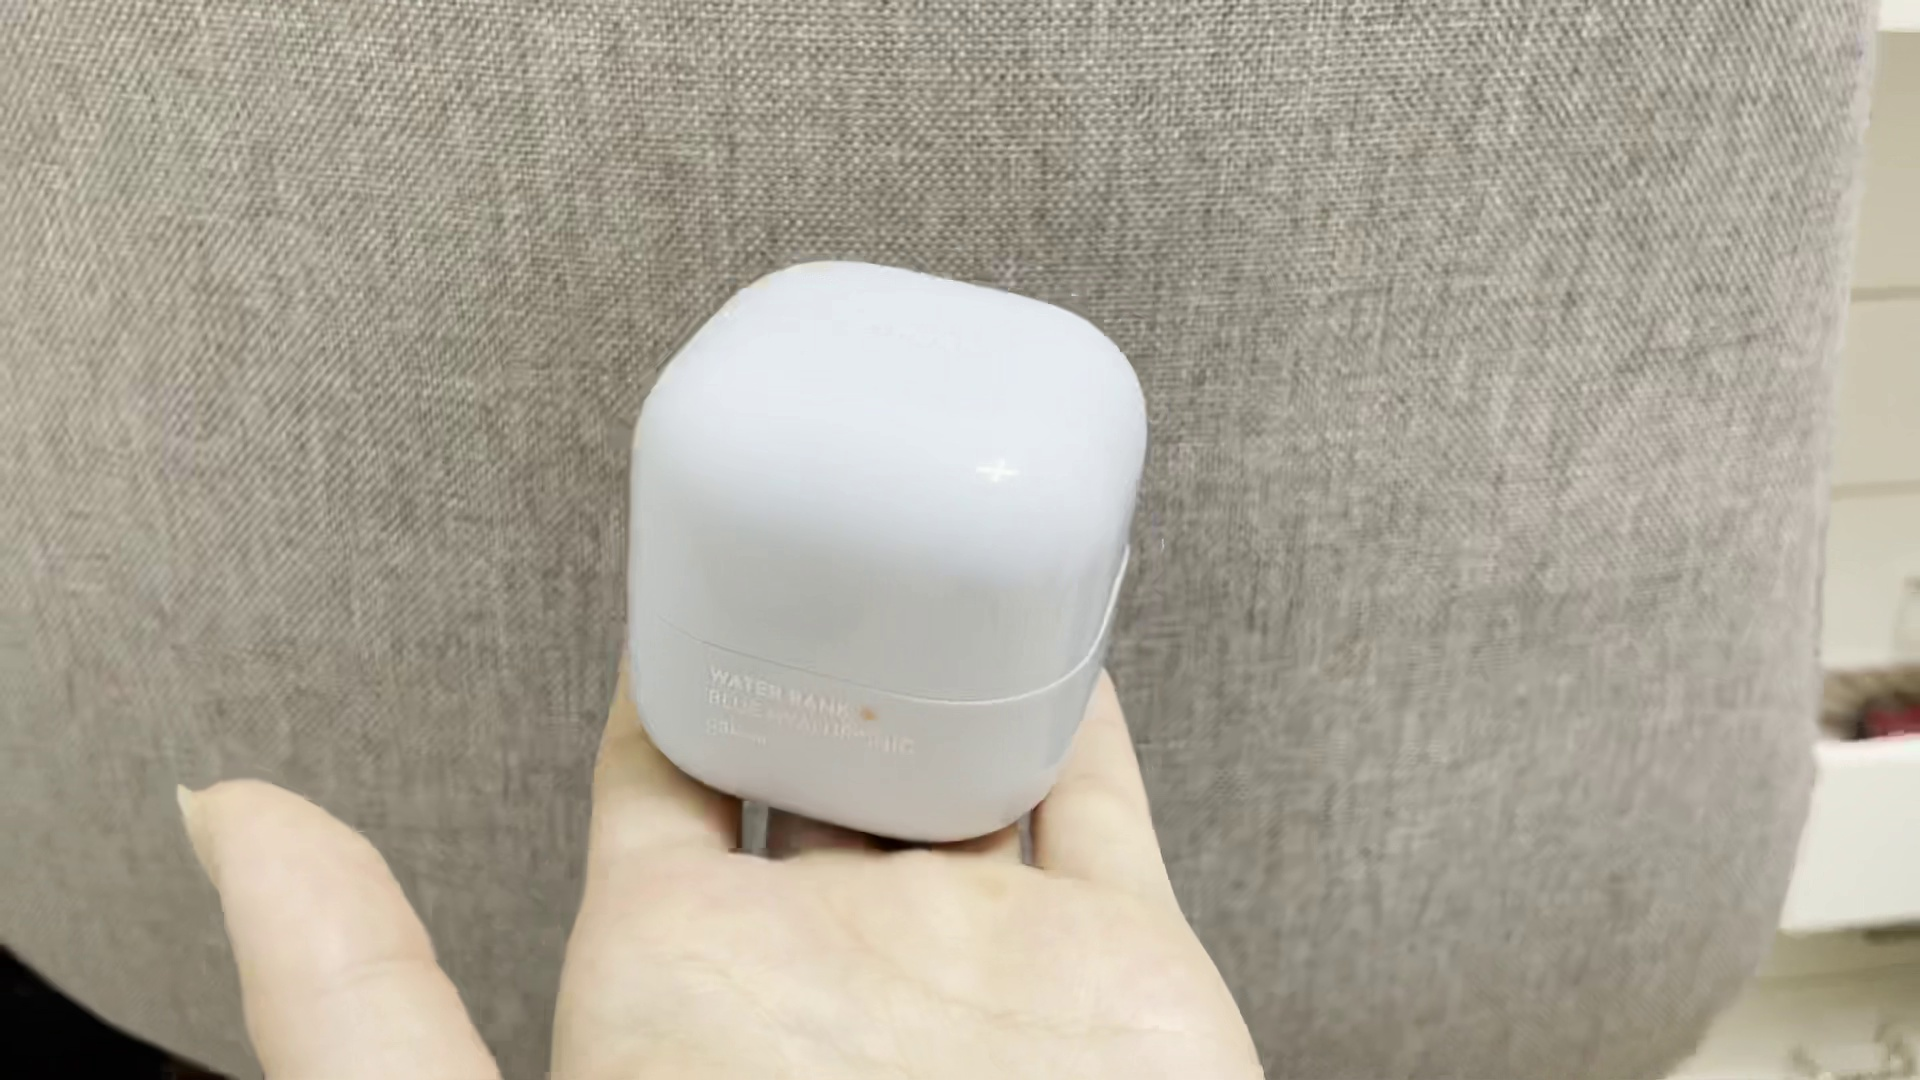cream: (616, 260, 1142, 844)
